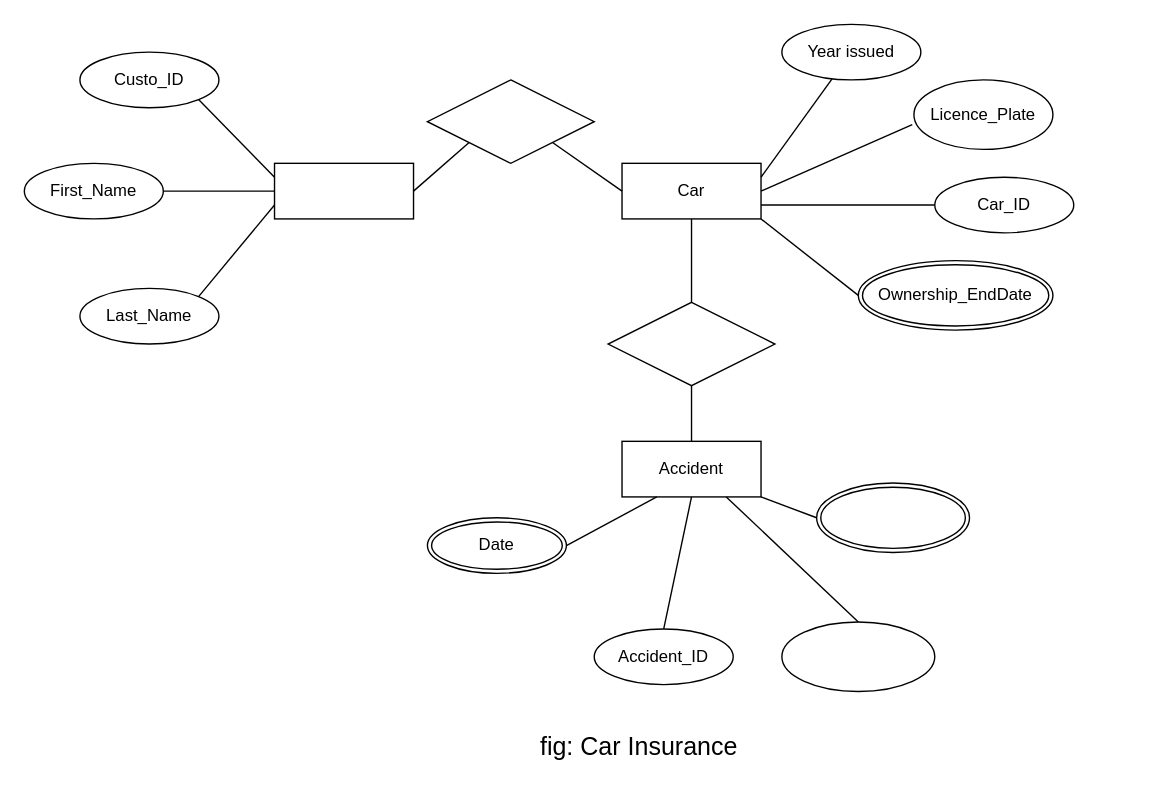
Some shapes in this 1175 by 799 pixel diagram are drawn without their labels. The shapes that lost their labels are listed below. From the top down, each one's centre as x and y in pixels, then its label:
At (x=510, y=121): "has Car".
At (x=343, y=190): "Customer".
At (x=691, y=343): "Has Recorded".
At (x=892, y=517): "Location".
At (x=857, y=656): "Damage_Amount".
